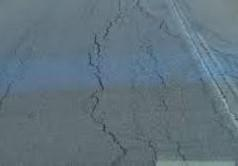crack: (182, 18, 238, 141), (88, 0, 126, 166), (141, 34, 187, 166), (132, 0, 176, 31), (144, 140, 163, 166)
